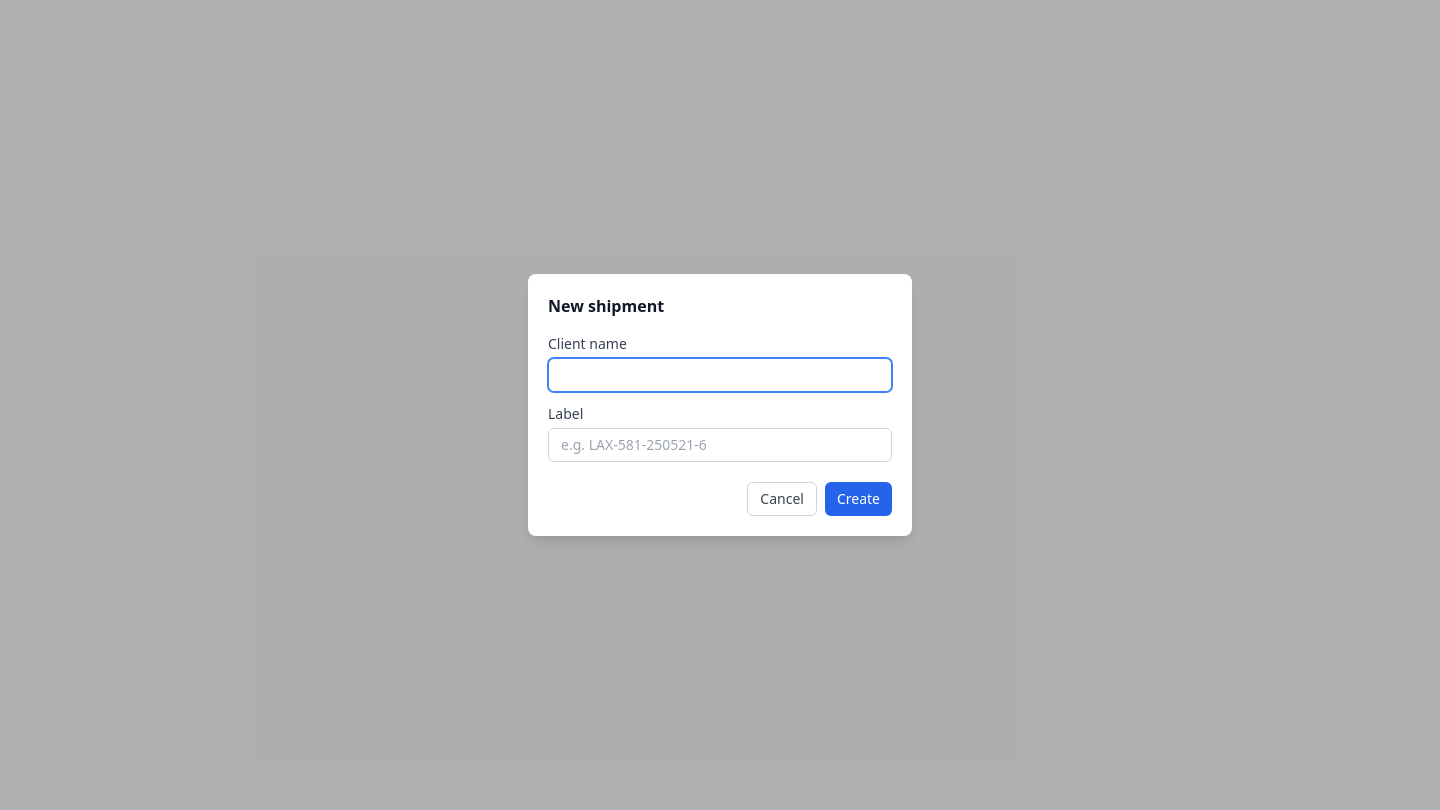
Test: CreateShipmentModal › shows validation errors when submitting empty required fields
Click the button "Create" at (858, 499), box [825,482,892,516]
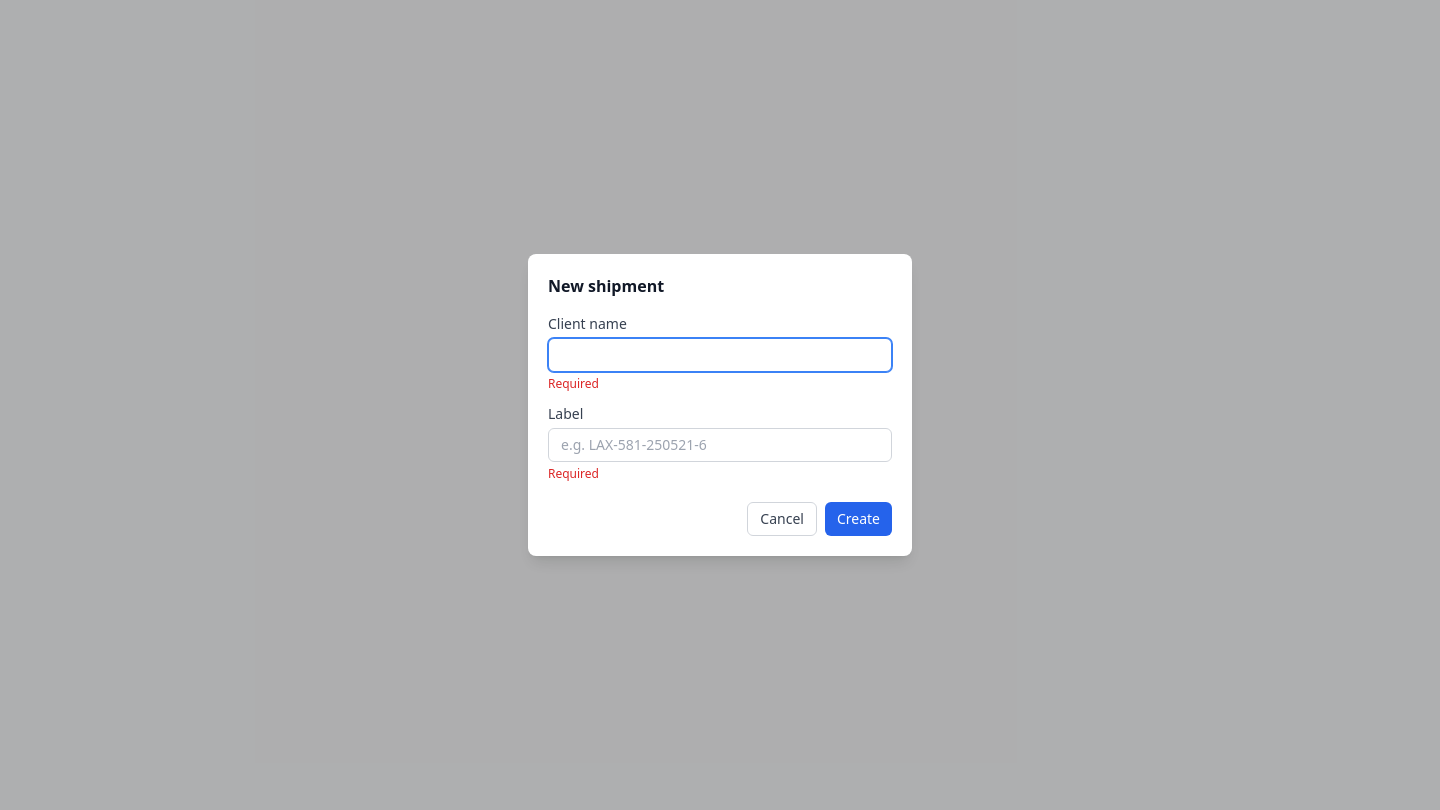
Expected: the text "Required" is shown 2 times, [548,375,599,392]; [548,465,599,482]
